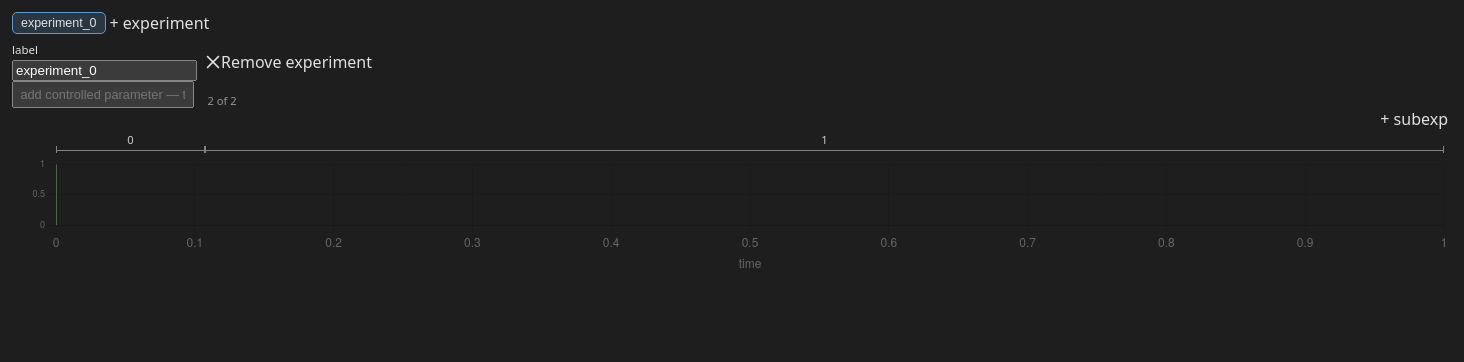
Test case: ProtocolInfoEditor › renders one plot per controlled param
Type "a/x" into the field with test id "param-search" at {"x": 103, "y": 94}, box [12,81,194,108]
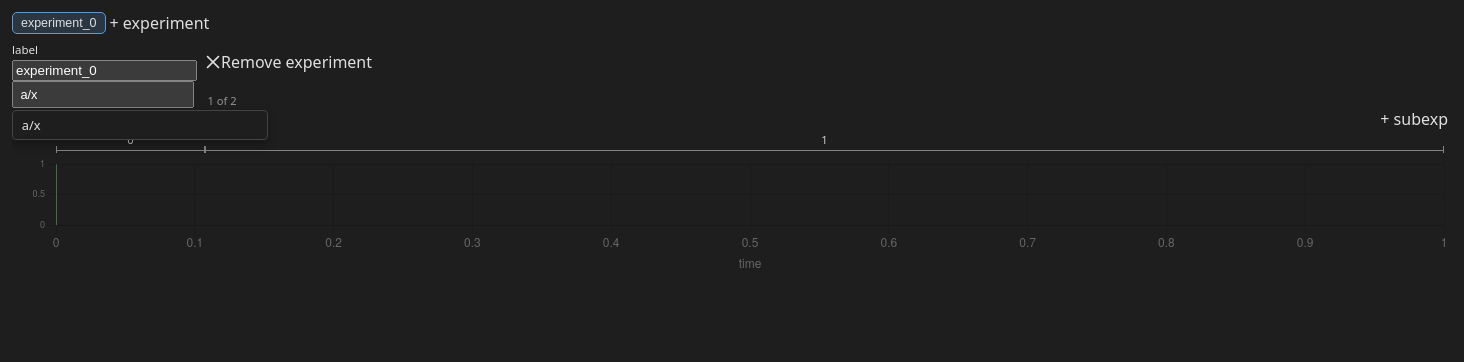
Press the mouse on the list item with test id "param-option" at {"x": 31, "y": 125}, box [22,116,40,134]
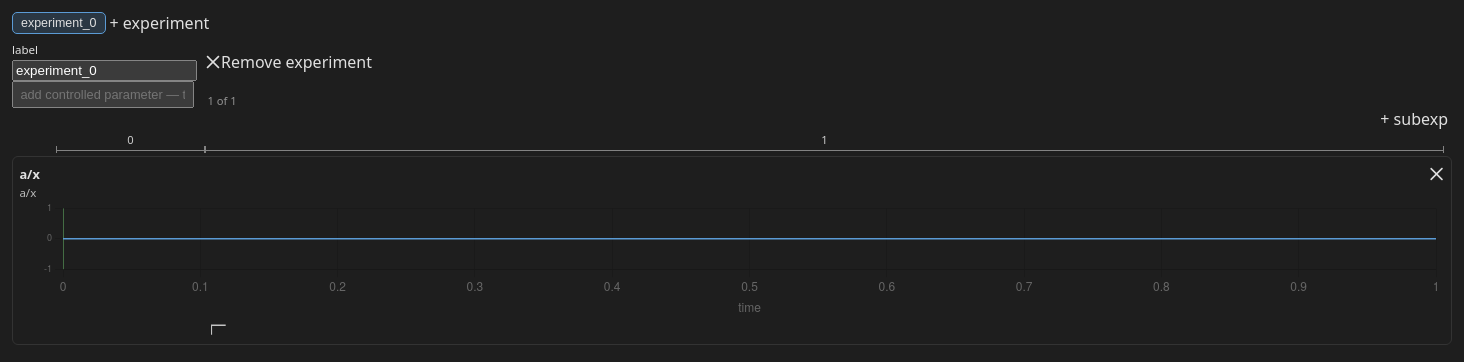
Expected: the number of "ParamInputPlot" components is 1, [19,185,1445,320]
Expected: the 1st text "a/x" is shown, [19,165,40,183]
